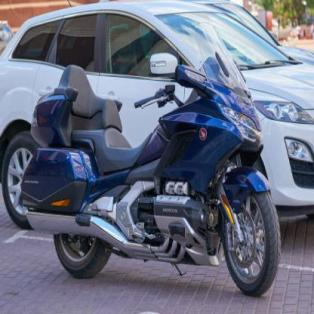Motocicleta: (19, 41, 282, 299)
